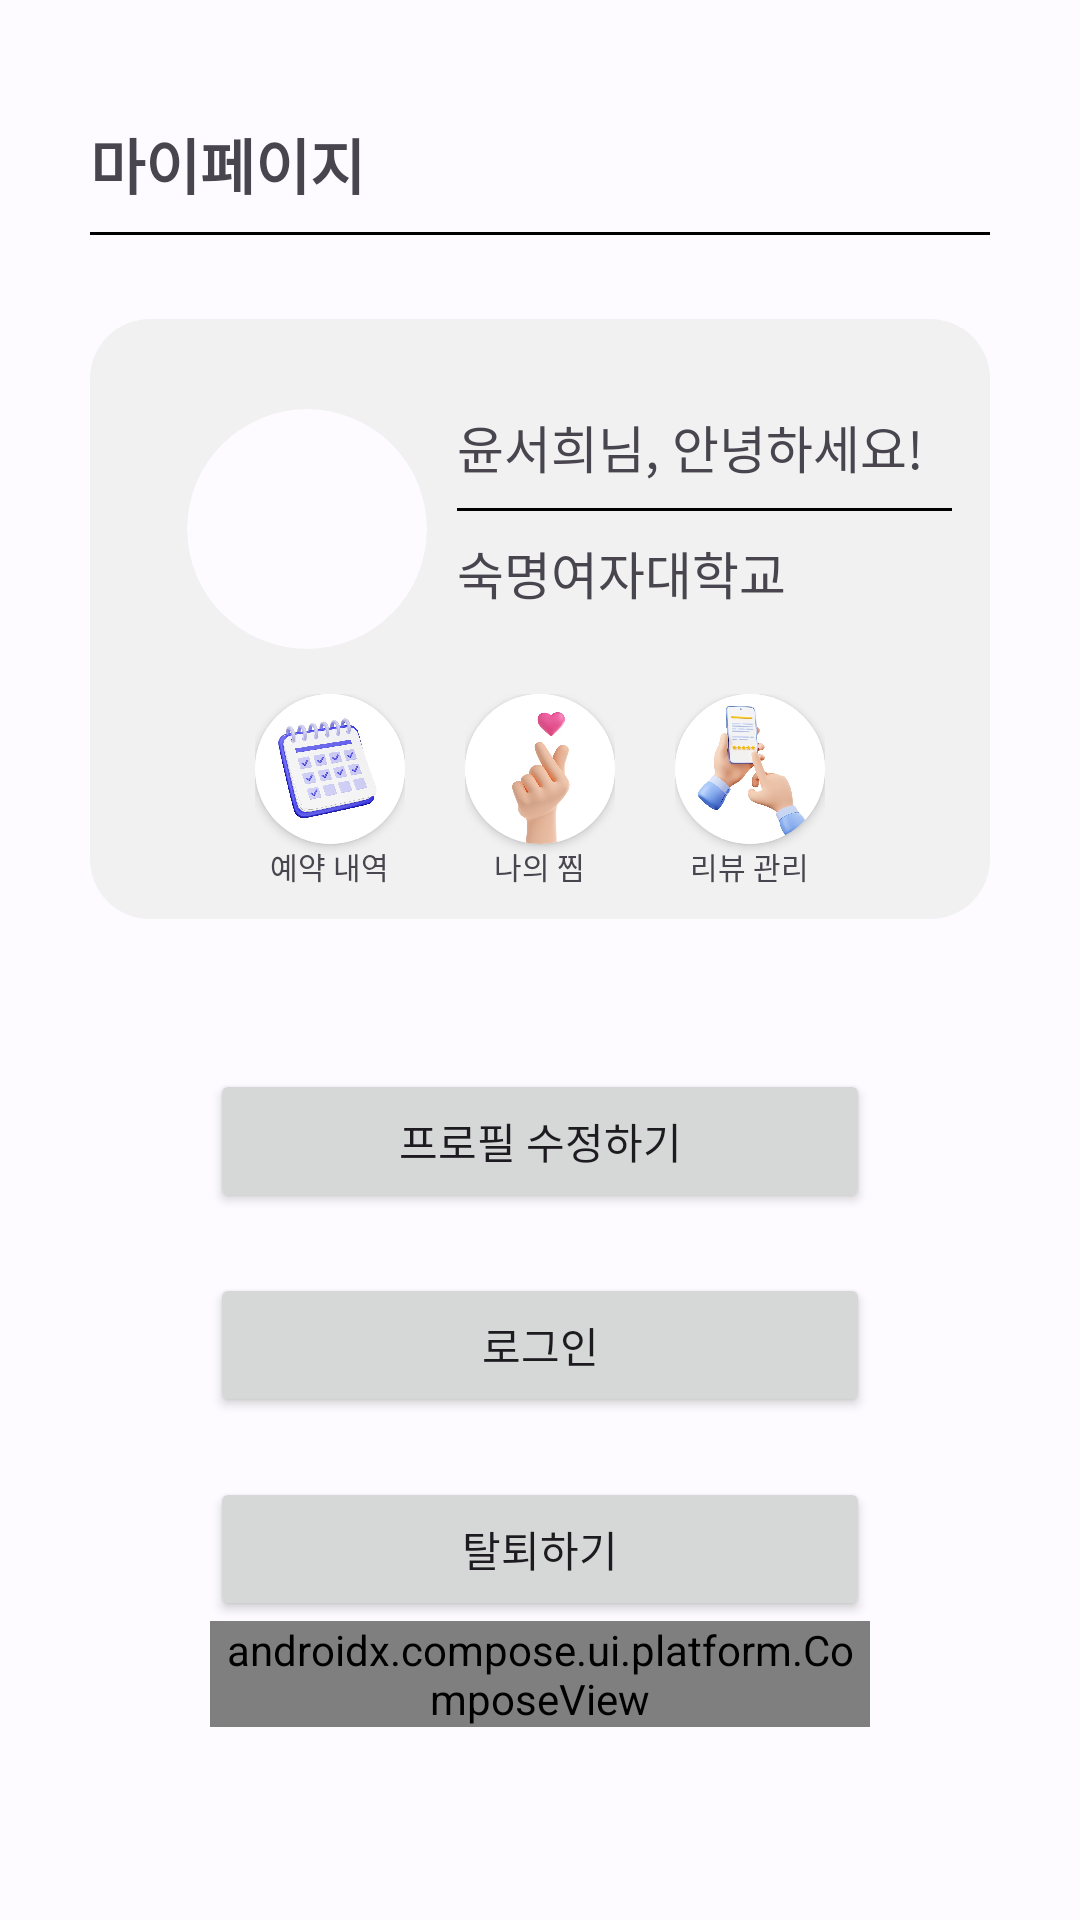

Screen size 1080 × 1920. Icon name, then its center in pixels as (x=x, y=y):
heart: (x=540, y=769)
